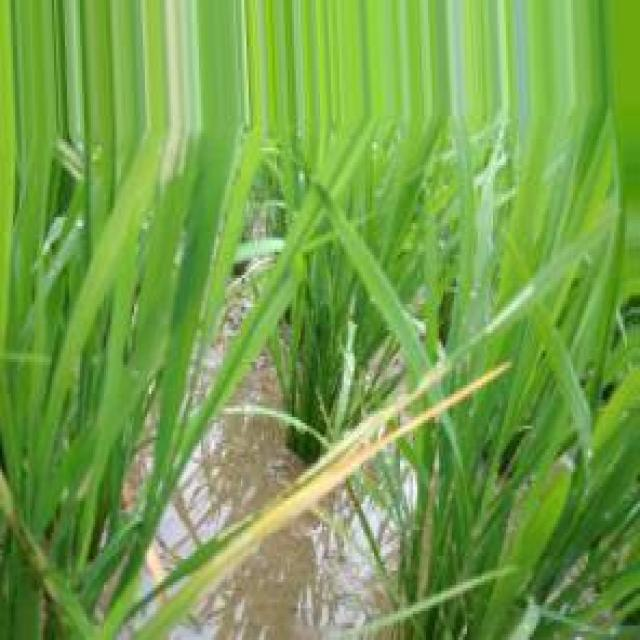Rice Tungro: (139, 362, 510, 638)
